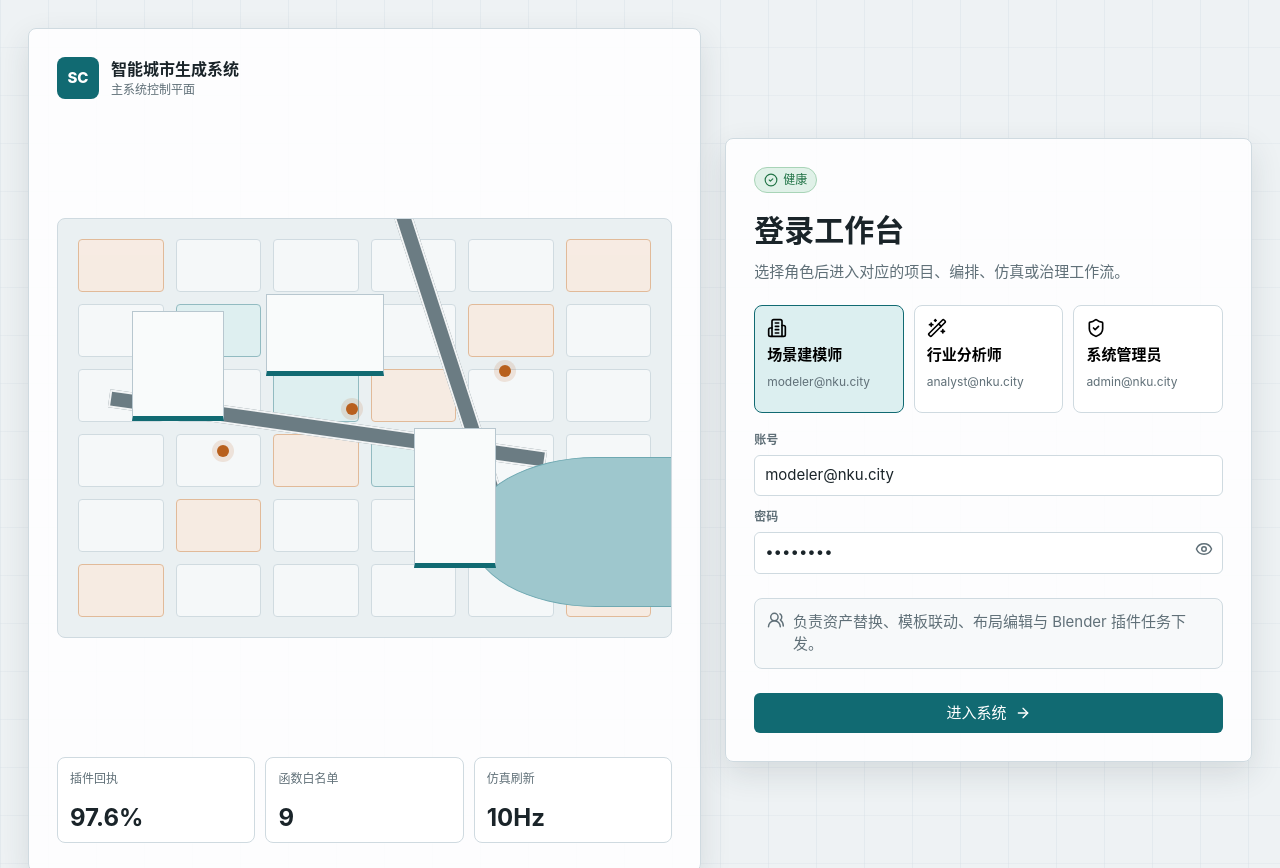
Test: App › logs in as admin and opens the admin portal
What coordinates should you click on to do the following:
click the button "系统管理员 admin@nku.city"
I would click on:
 (1148, 359)
Its box is [1073,305,1223,413].
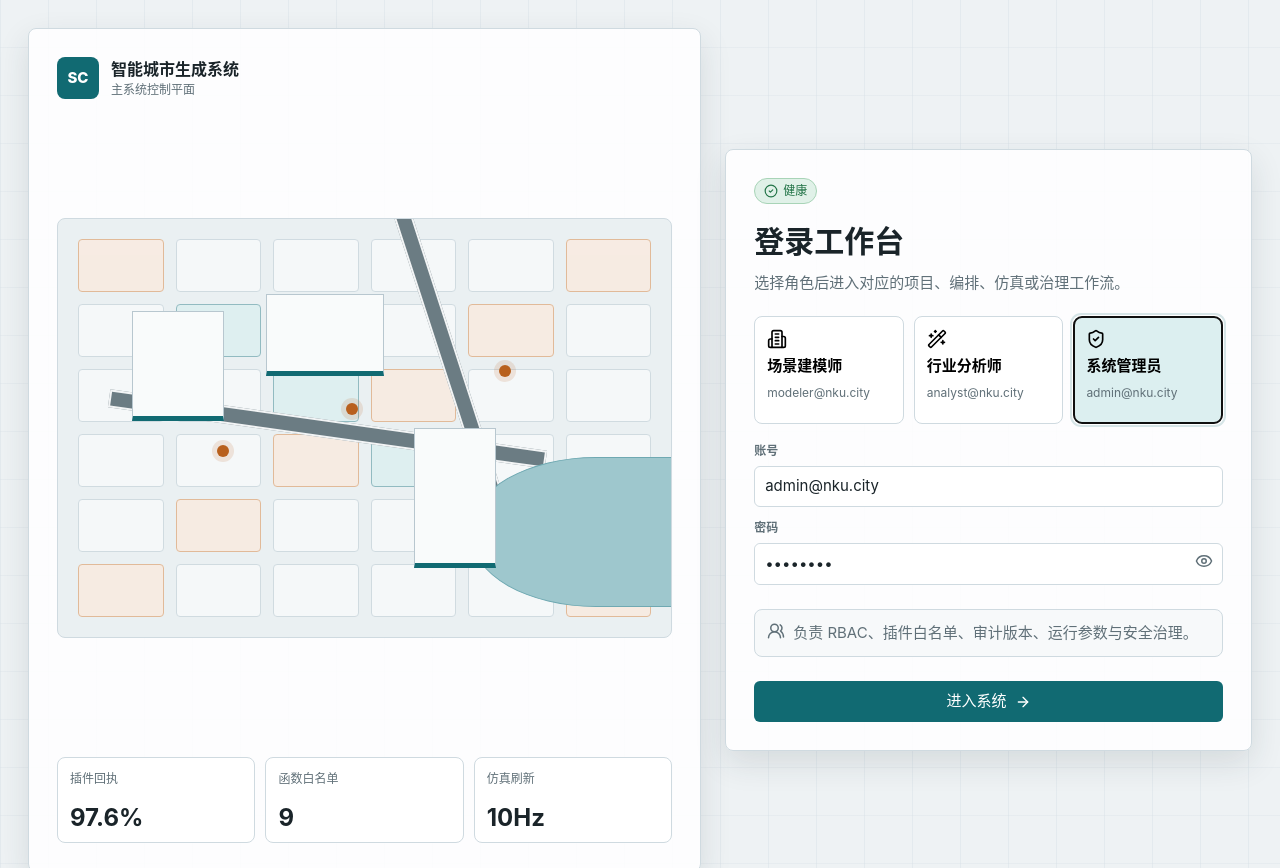
What coordinates should you click on to do the following:
click the button "进入系统"
I would click on:
 (989, 702)
Its box is [754,681,1223,722].
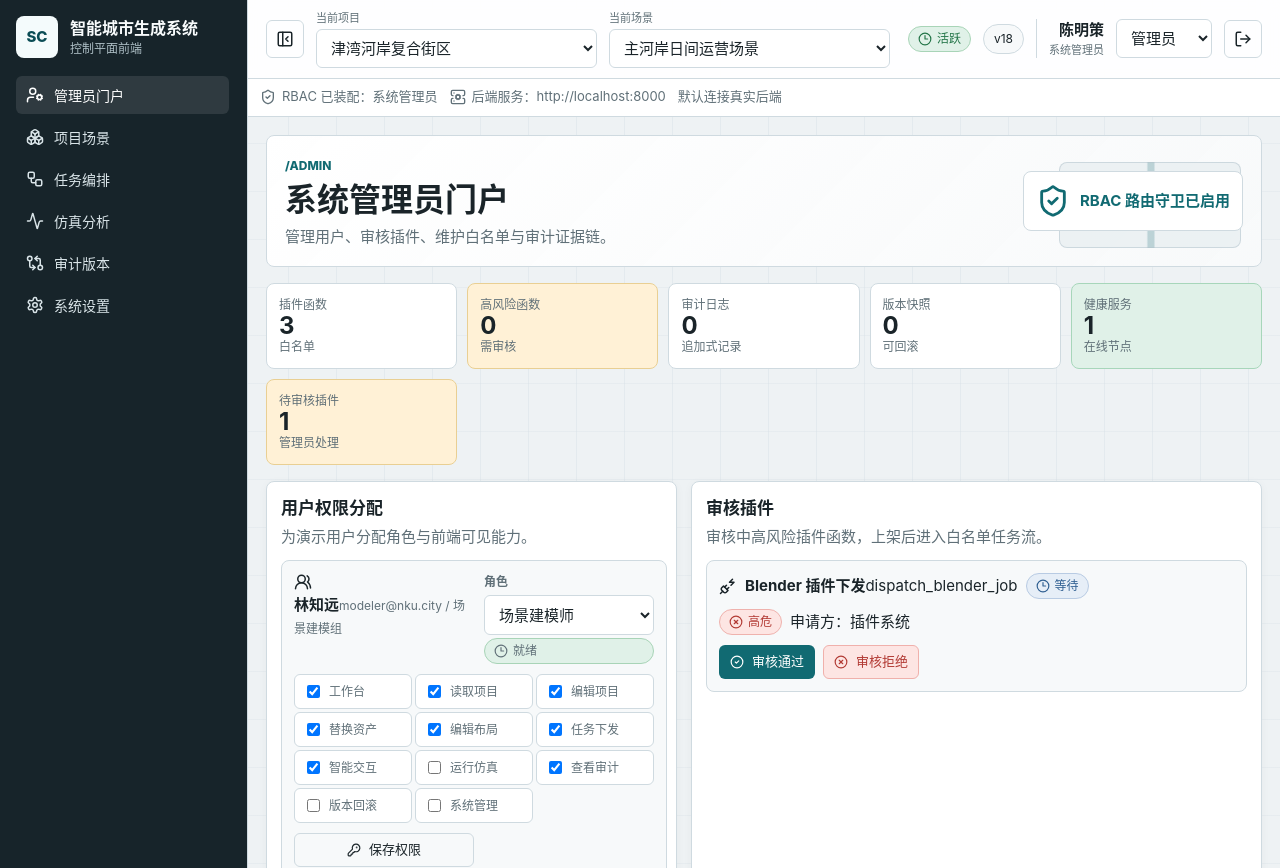
Expected: the heading "系统管理员门户" is shown, [285,180,509,219]
Expected: the text "管理用户、审核插件、维护白名单与审计证据链。" is shown, [285,226,615,248]
Expected: the heading "用户权限分配" is shown, [281,498,383,518]
